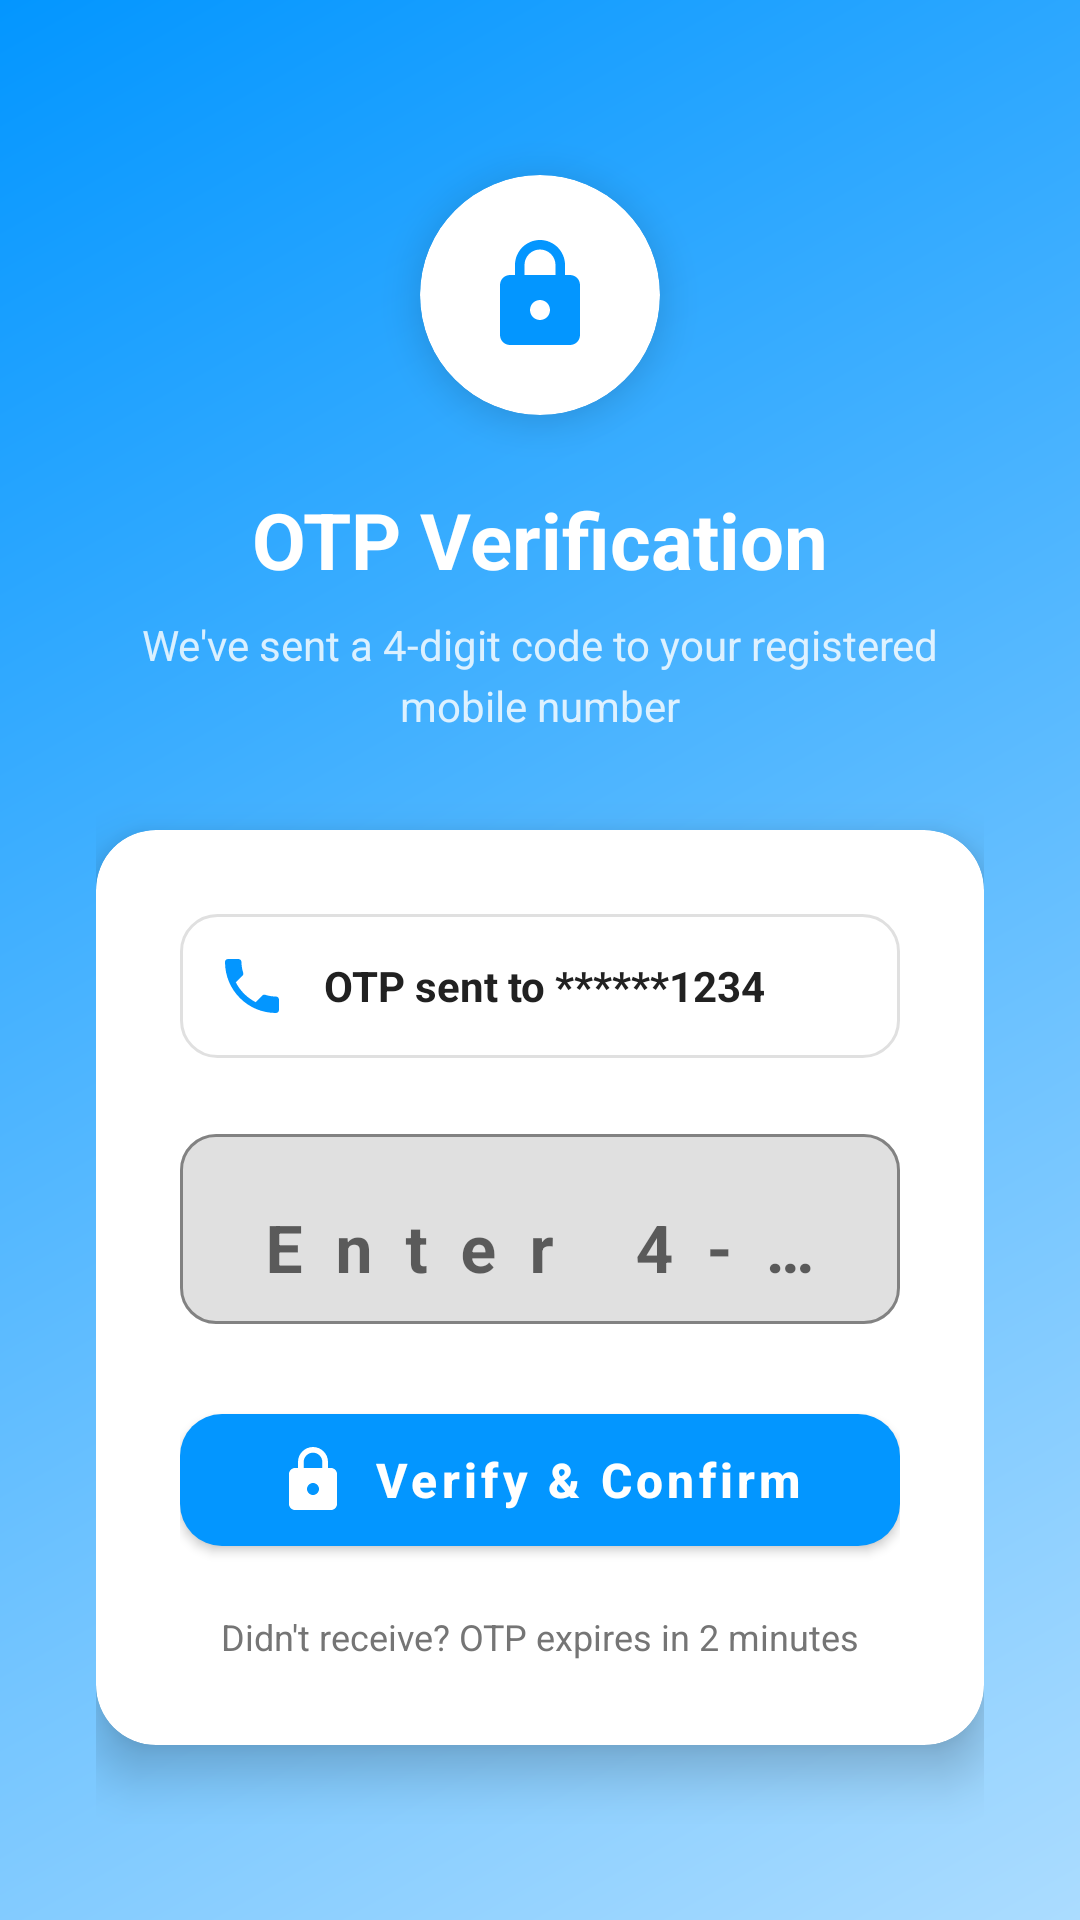

Point at icon controls on the screen. Image size 1080w x 1920h, points as [x,y].
lock: [540,292]
phone: [252,986]
